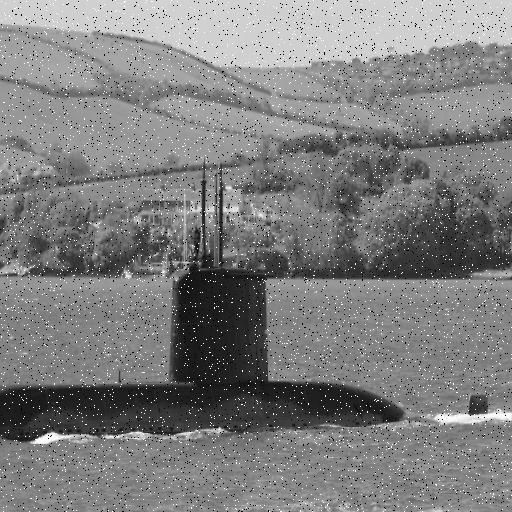submarine: (1, 145, 512, 456)
